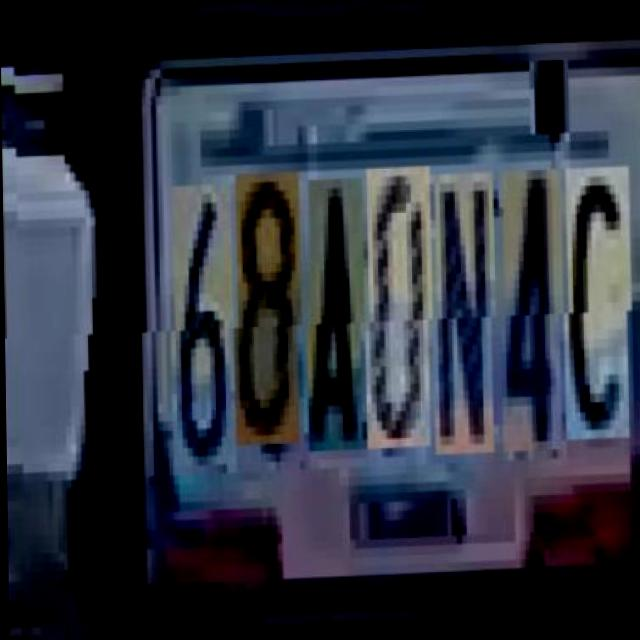0: (365, 169, 434, 452)
4: (502, 174, 565, 457)
6: (172, 185, 235, 469)
8: (235, 175, 302, 448)
a: (309, 182, 366, 454)
c: (564, 173, 633, 445)
n: (434, 176, 497, 459)
